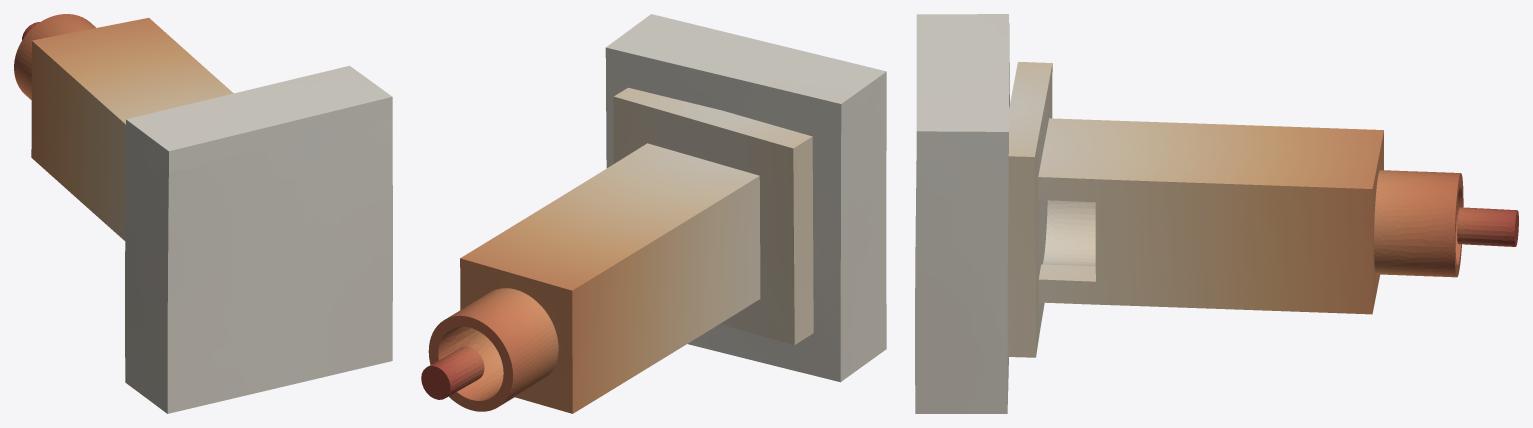
File: pilot_nom_Fx_u.glb
3 views of the same model, side by side, from view 1: azimuth 30°, elevation 25°; view 2: azimuth 150°, elevation 25°; view 3: azimuth 270°, elevation 25° (orthographic). The views are drawn at different scales.
Parts seen in each view (by area): view 1: geometry_0; view 2: geometry_0; view 3: geometry_0.
Boxes of the visible parts, x1,y1,x2,y2 form: geometry_0: (14, 14, 392, 413); geometry_0: (421, 14, 886, 413); geometry_0: (915, 14, 1518, 413).
Bounding box in the file's own units: 120 × 135 × 262.
